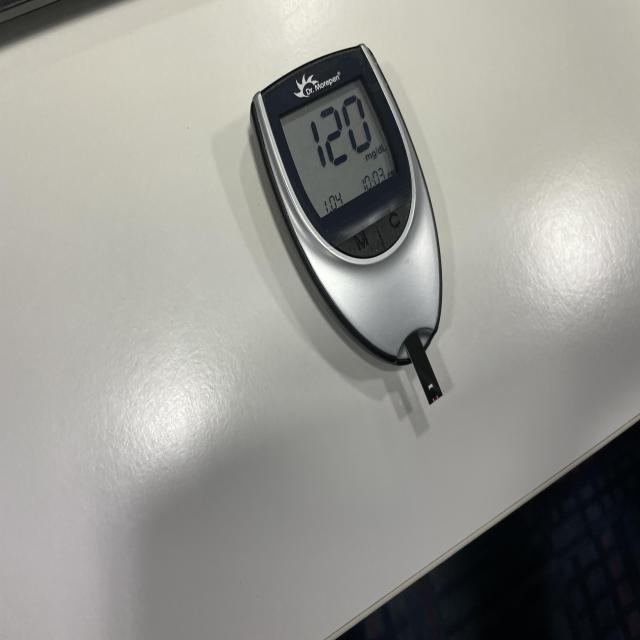gluco: (250, 46, 444, 399)
